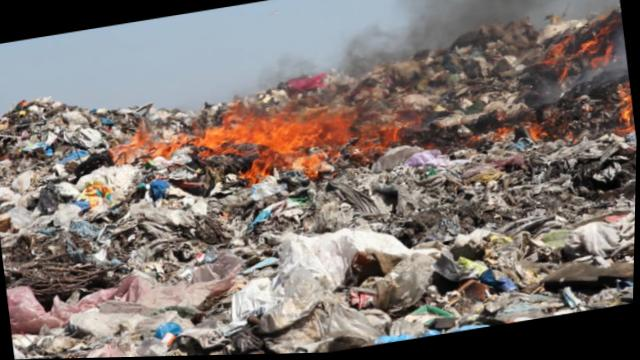fire: (99, 73, 417, 206), (471, 11, 636, 155)
